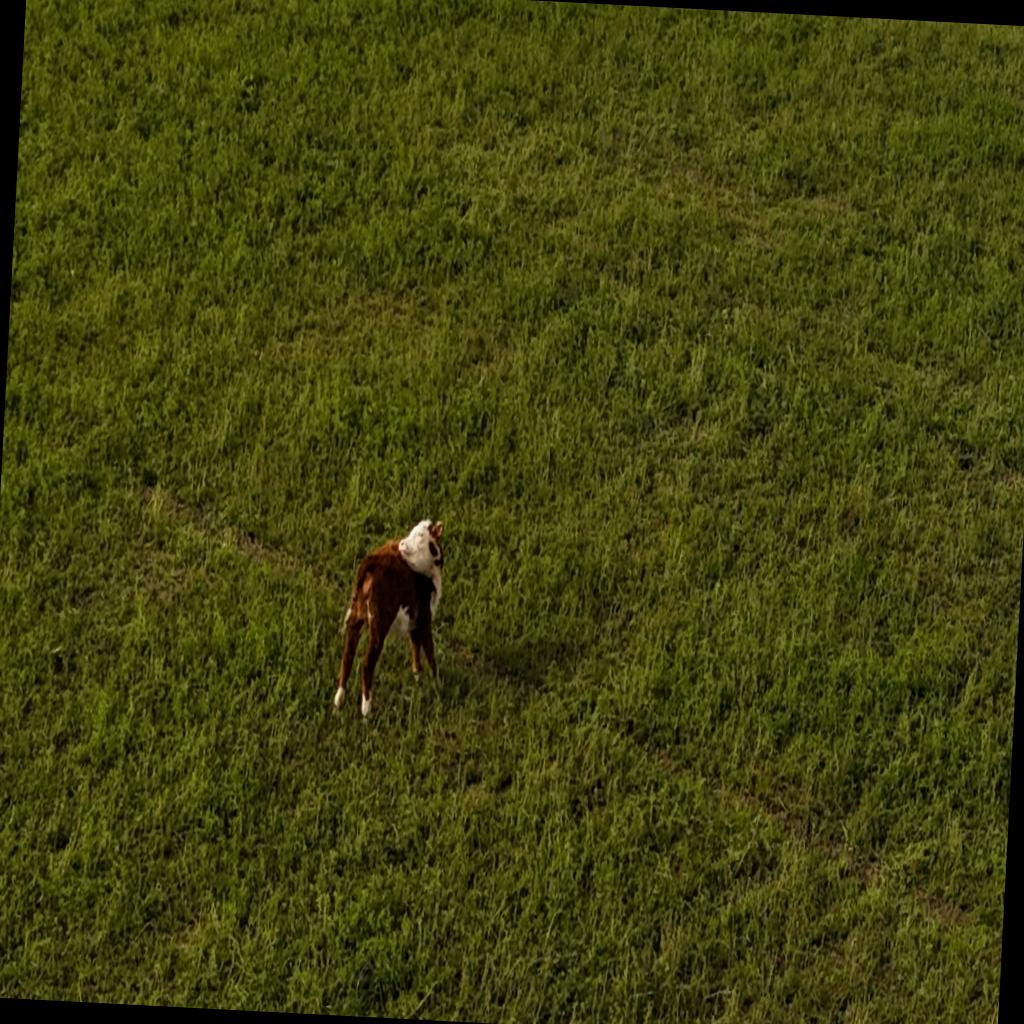cow: (328, 500, 453, 725)
